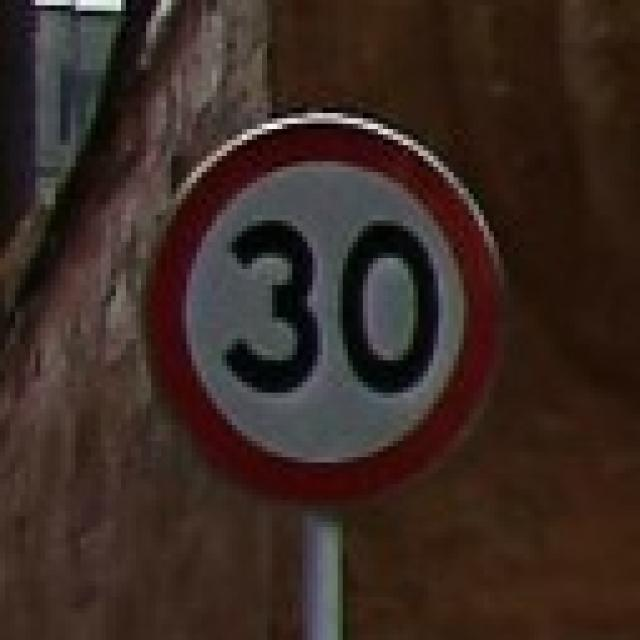Speed Limit -30-: (218, 217, 446, 402)
